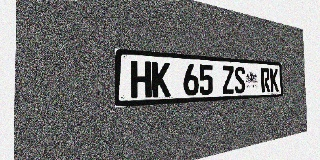5: (199, 64, 213, 95)
6: (183, 63, 199, 96)
H: (131, 60, 151, 98)
K: (152, 62, 170, 97), (270, 68, 279, 92)
R: (261, 68, 270, 92)
S: (234, 66, 246, 94)
Z: (222, 65, 234, 94)
